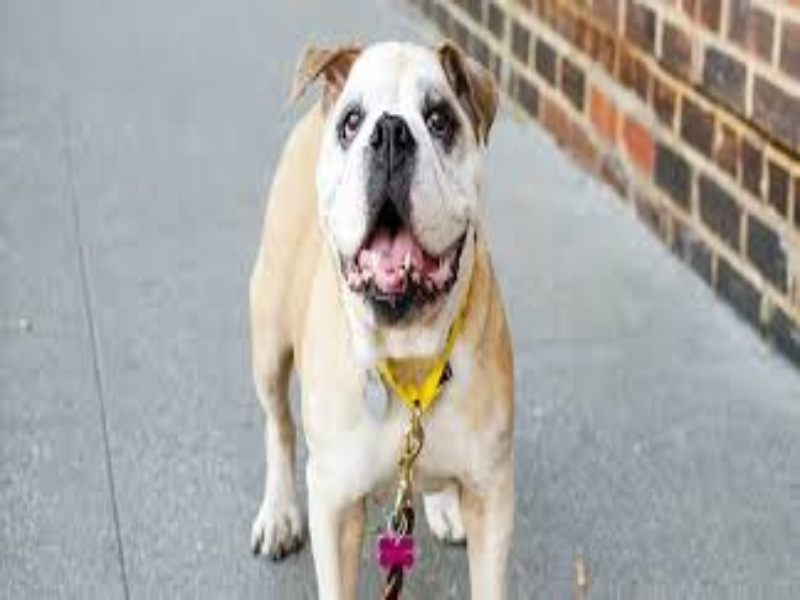dog: (179, 35, 655, 571)
